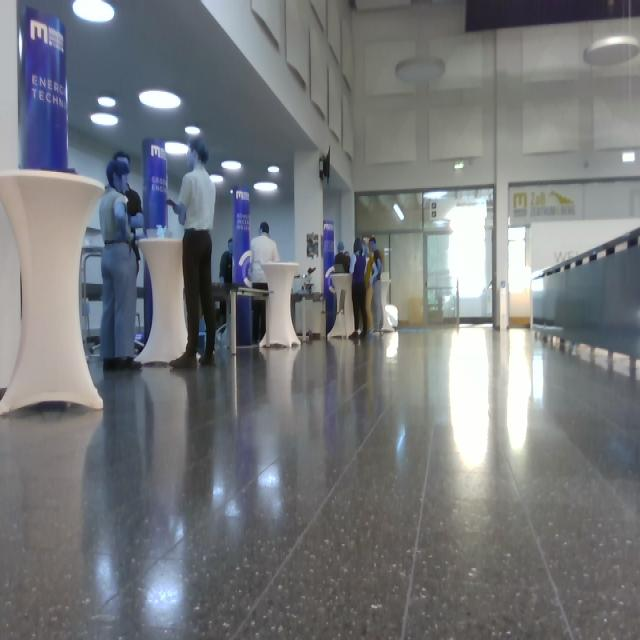light bulb: (584, 35, 640, 67), (395, 56, 446, 84), (72, 1, 115, 24), (139, 89, 181, 110), (90, 113, 119, 126), (165, 141, 189, 156), (385, 304, 399, 328), (254, 181, 278, 193), (98, 96, 116, 108), (221, 160, 242, 170), (393, 204, 405, 221), (185, 125, 201, 136), (210, 174, 224, 184), (268, 165, 280, 173)
person: (166, 137, 218, 369), (99, 158, 143, 372), (250, 221, 281, 344), (219, 238, 234, 328)
pillar: (1, 168, 106, 416)
tiled floor: (1, 323, 639, 639)
